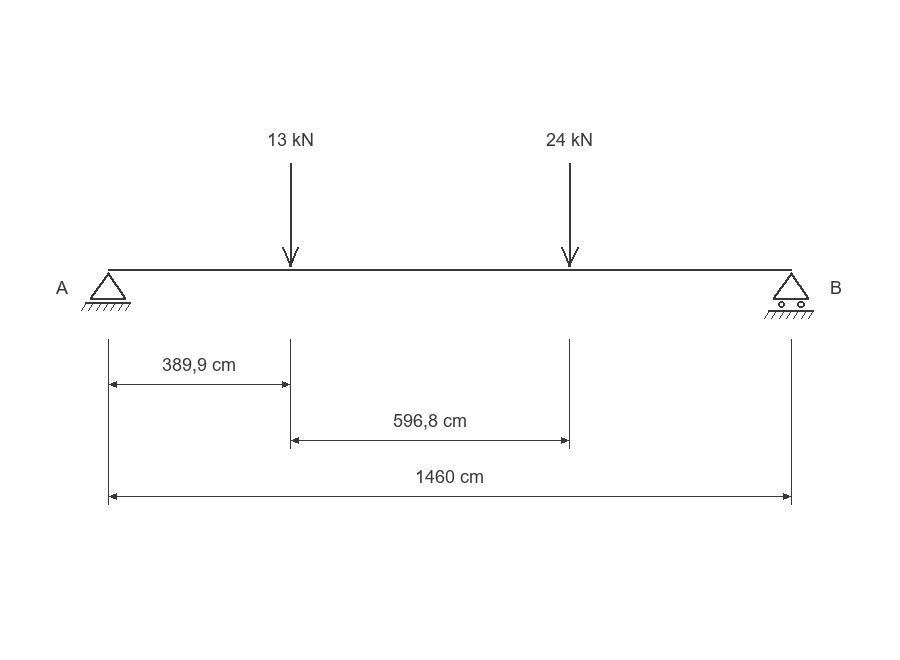pin_support: (81, 272, 131, 311)
point_load: (561, 163, 579, 267), (282, 163, 299, 267)
roller_support: (764, 272, 814, 319)
